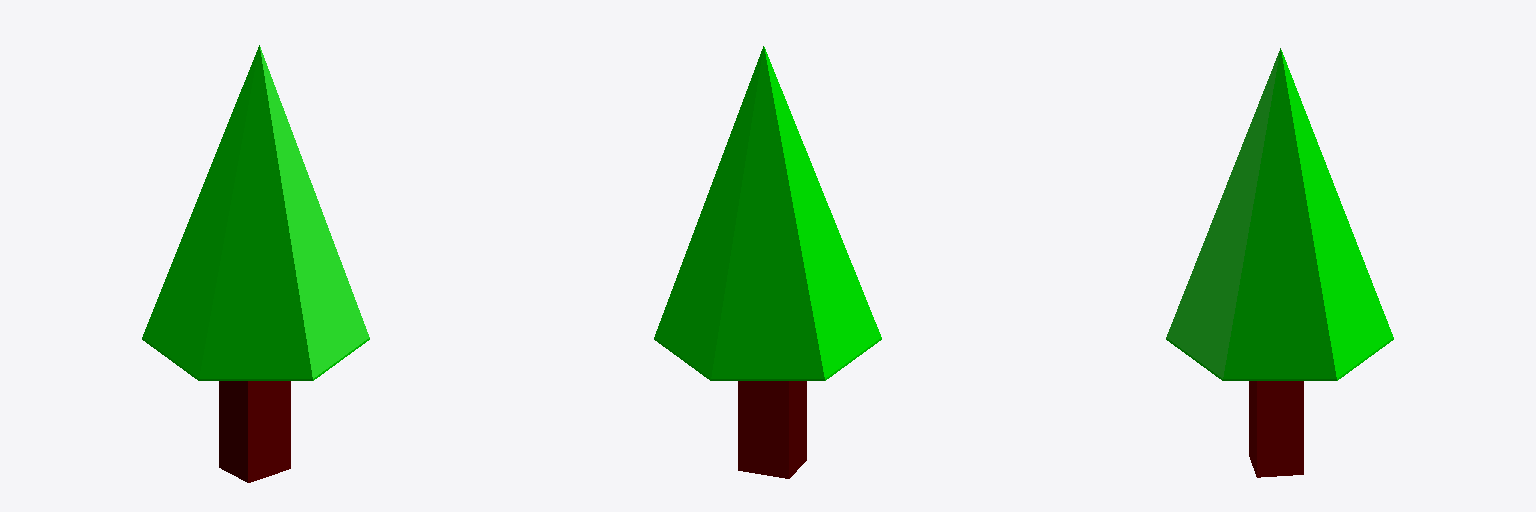
File: arboldepapa.obj
The picture shows the model from 3 angles: view 1: azimuth 30°, elevation 25°; view 2: azimuth 150°, elevation 25°; view 3: azimuth 270°, elevation 25°; orthographic projection.
Visible parts, largest first — view 1: Mesh1 Model; view 2: Mesh1 Model; view 3: Mesh1 Model.
Part boxes in pixels (left/top/right/bottom): Mesh1 Model: left=142, top=45, right=369, bottom=482; Mesh1 Model: left=654, top=46, right=881, bottom=478; Mesh1 Model: left=1166, top=48, right=1393, bottom=477.
Bounding box in the file's own units: 2.53 × 5.95 × 2.92.